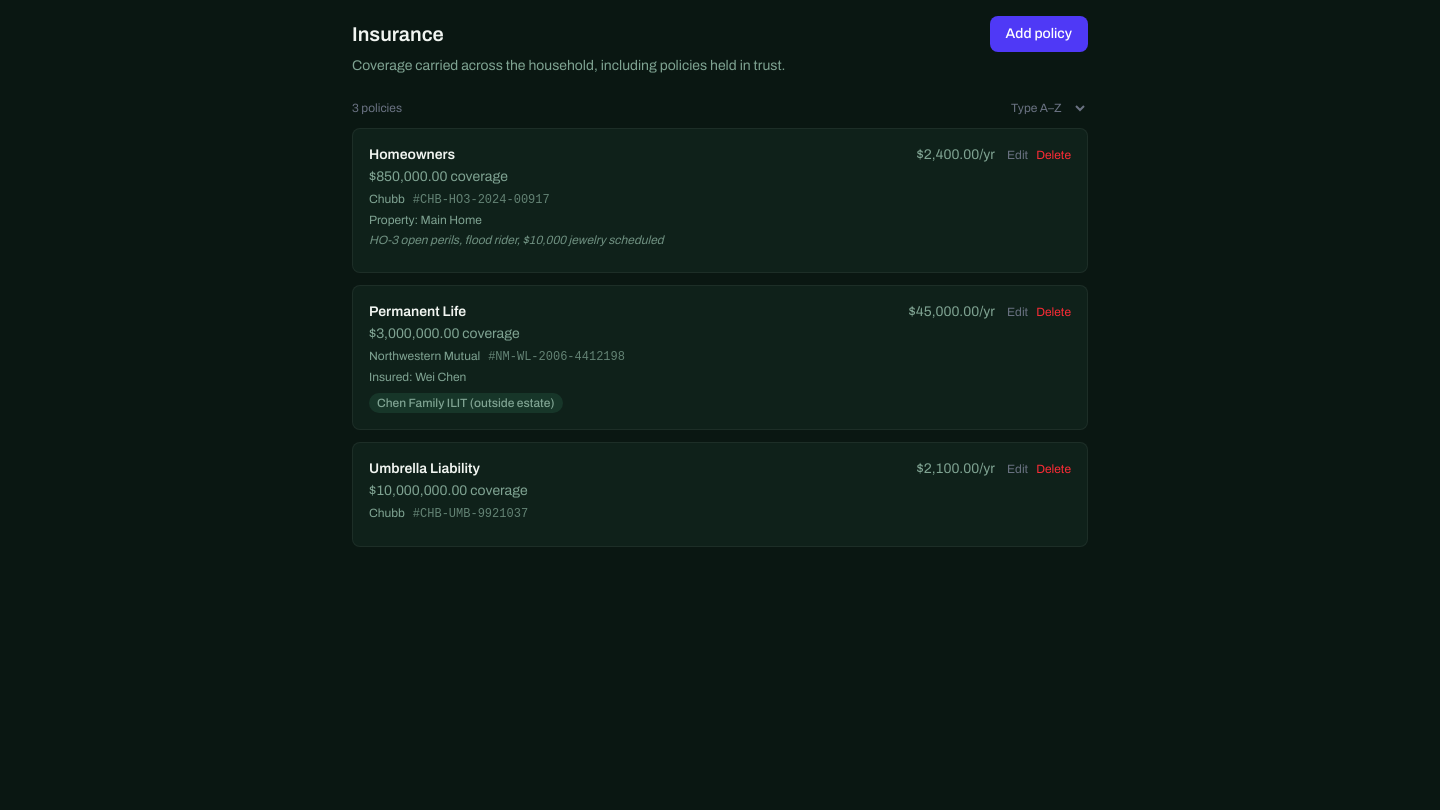
Test case: Insurance page › opens Edit modal with correct policy type pre-selected
Expected: the text "Umbrella Liability" is shown, x1=369 y1=459 x2=480 y2=479
Click the button "Edit" in the row of "$2,400.00" at (1018, 155), box x1=1007 y1=147 x2=1028 y2=163
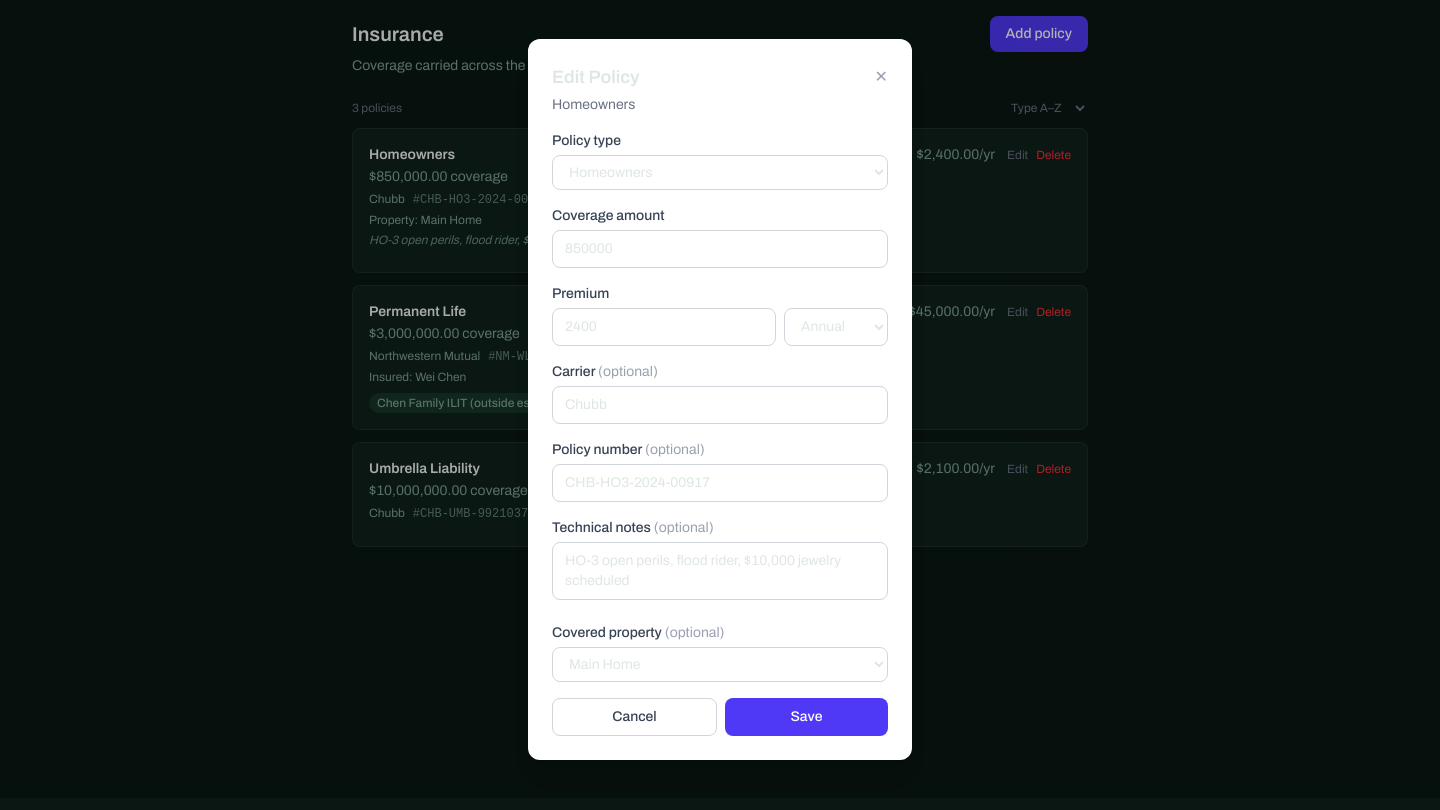
Now the heading "Edit Policy" is shown, box x1=552 y1=62 x2=640 y2=90
Now the text "Homeowners" is shown, box x1=552 y1=96 x2=635 y2=112
